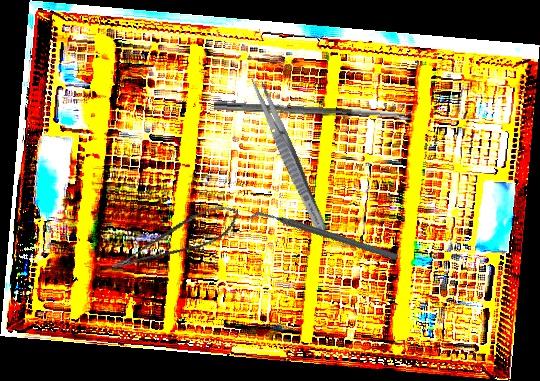Chopper: (247, 163, 400, 310)
Dressing Forceps: (245, 73, 333, 240)
Micro Scissor: (104, 199, 245, 275)
Surgical Spoon: (213, 101, 413, 122)
